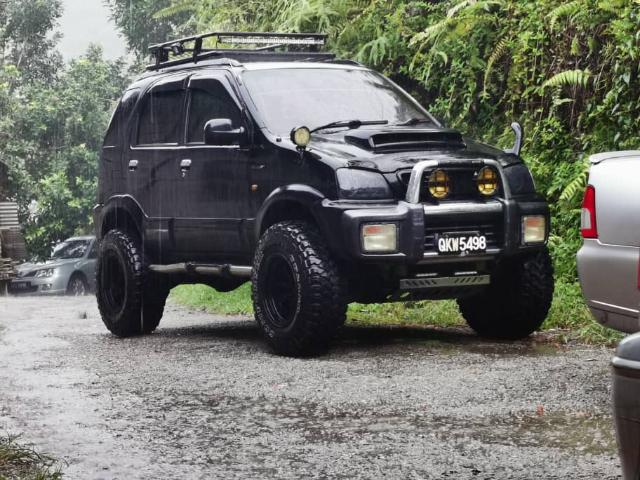License_Plate: (437, 235, 487, 256)
car: (89, 29, 560, 348)
